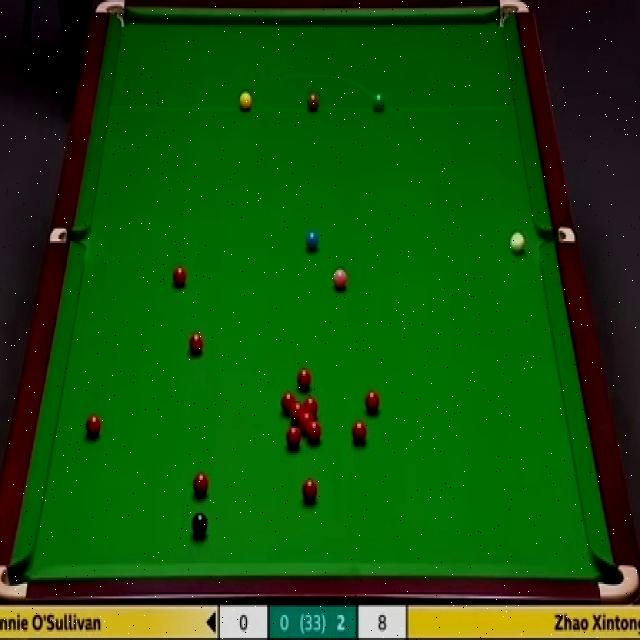black-ball: (192, 512, 210, 536)
blue-ball: (305, 228, 319, 255)
brown-ball: (306, 91, 320, 111)
green-ball: (372, 92, 386, 111)
pink-ball: (333, 270, 348, 293)
red-ball: (186, 332, 206, 358), (82, 411, 100, 438), (350, 420, 368, 446), (280, 390, 298, 416), (302, 478, 320, 504), (193, 471, 210, 496), (295, 368, 314, 390), (363, 391, 381, 414), (286, 424, 301, 450), (306, 422, 322, 446), (303, 398, 319, 422), (290, 403, 306, 425), (172, 268, 187, 286), (299, 413, 313, 431)
white-ball: (510, 232, 525, 255)
yellow-ball: (238, 91, 252, 111)
